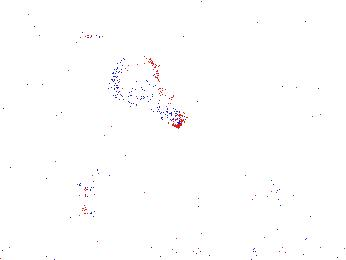flame jellyfish: (104, 50, 188, 129), (74, 142, 131, 198), (250, 161, 320, 205)
